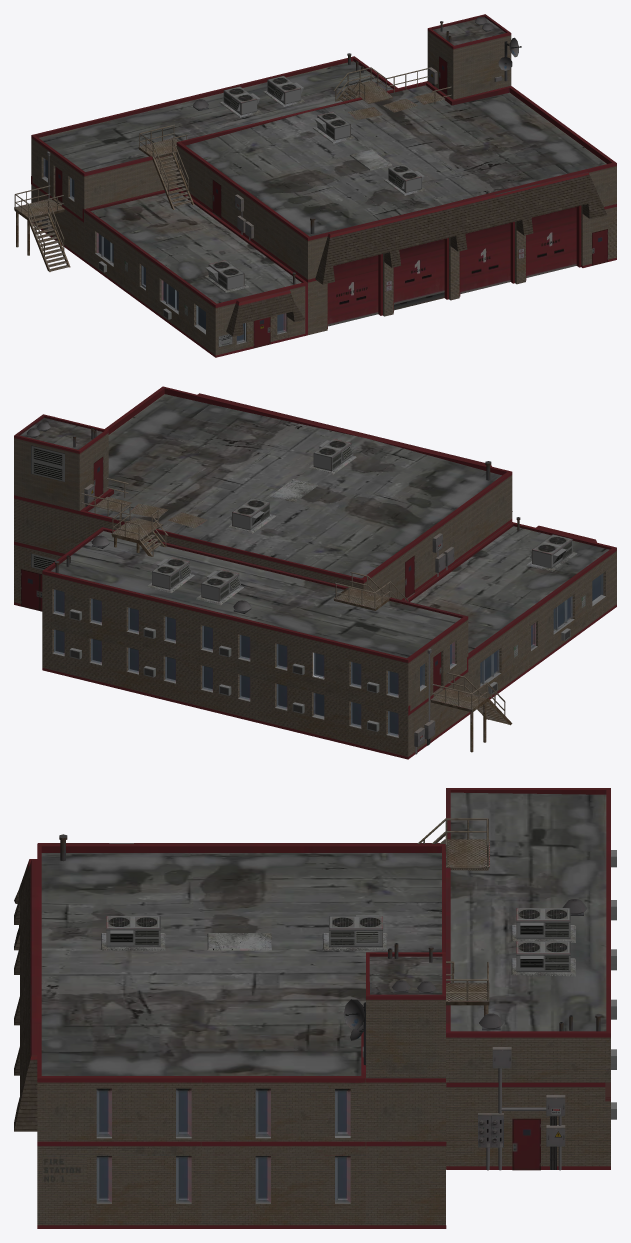
Rendered from fire-station.walls-v1.lod0.glb.
3 views of the same model, one above another, from view 1: azimuth 30°, elevation 25°; view 2: azimuth 150°, elevation 25°; view 3: azimuth 270°, elevation 25° (orthographic). The views are drawn at different scales.
Parts seen in each view (by area): view 1: LOD0_Material #65_0; view 2: LOD0_Material #65_0; view 3: LOD0_Material #65_0.
Part boxes in pixels (x1,y1,x2,y2): LOD0_Material #65_0: [14, 14, 616, 357]; LOD0_Material #65_0: [14, 386, 616, 759]; LOD0_Material #65_0: [14, 788, 616, 1228].
Size of the model in its own units: 31.27 by 10.57 by 23.61.
Materials: 1 (1 with a texture image).
